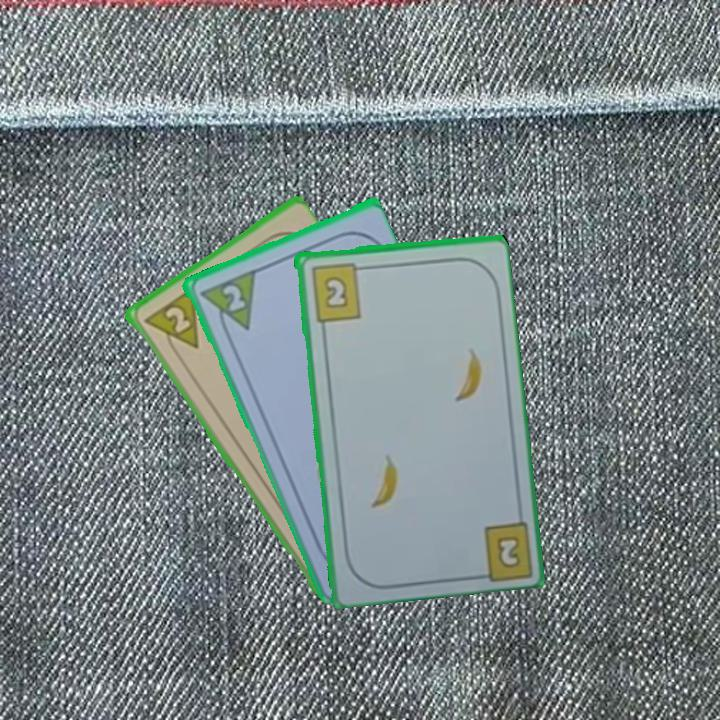2b: (307, 258, 368, 324), (492, 532, 524, 572)
2p: (139, 285, 202, 363), (195, 266, 258, 340)
